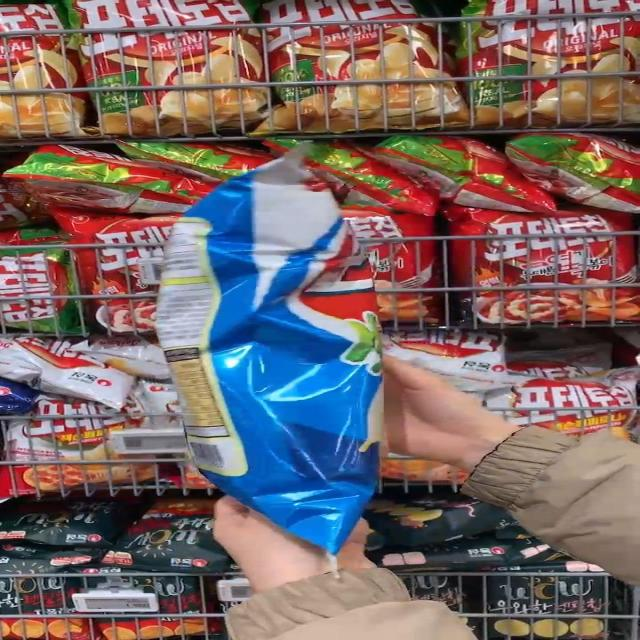pokaChip: (156, 141, 381, 578)
